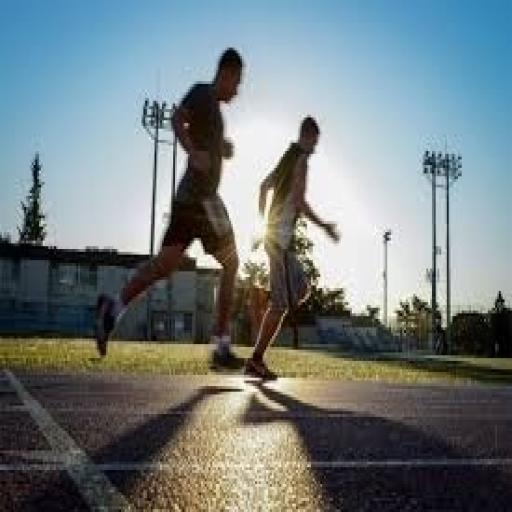running: (91, 45, 246, 369), (242, 112, 343, 386)
